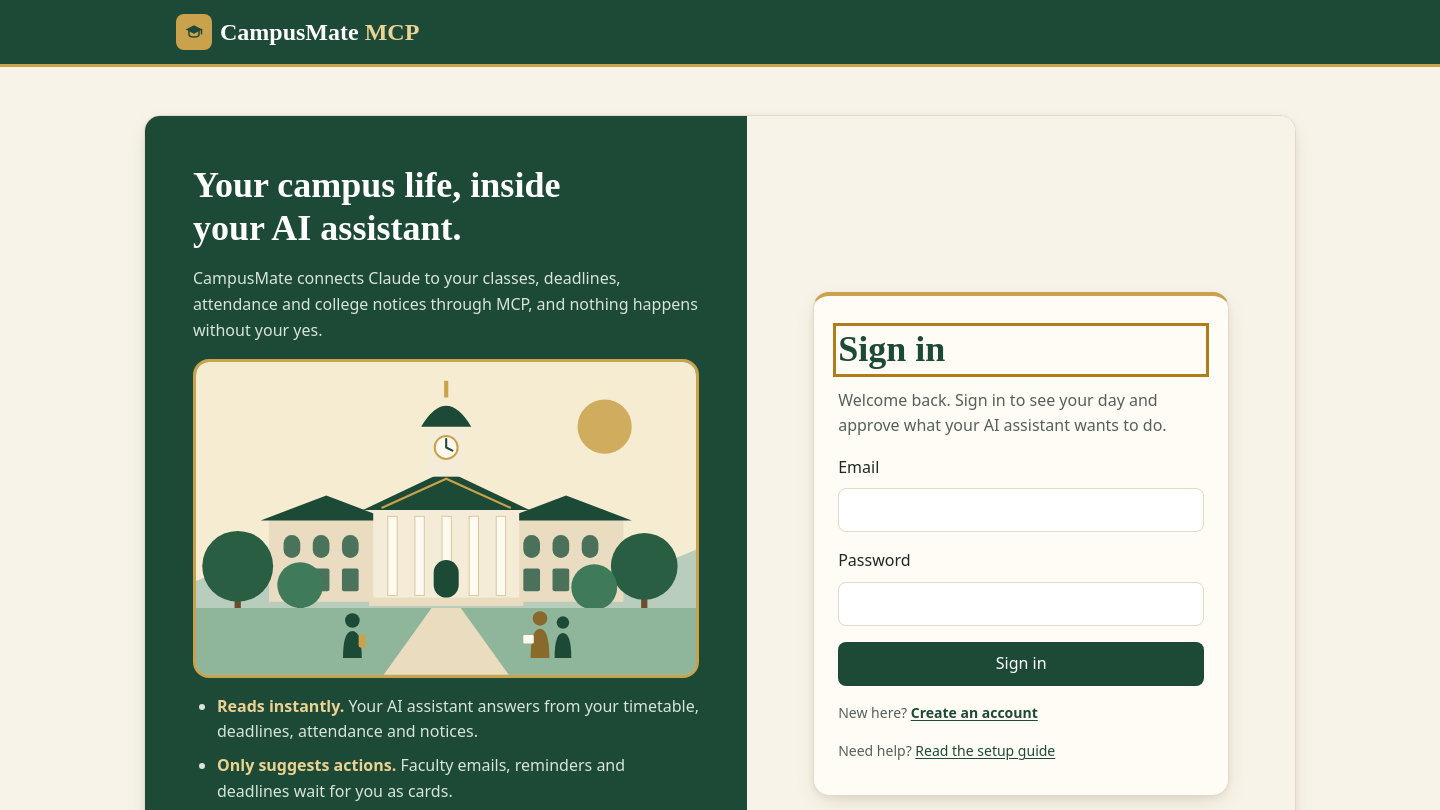
logged out › sends protected pages to the login page and back after logging in
The width and height of the screenshot is (1440, 810).
Check: the heading "Sign in" is shown, box [838,329,945,369]
Type "ananya@college.test" into the field labelled "Email".
click(1021, 510); type("ananya@college.test")  # box [838,488,1204,532]
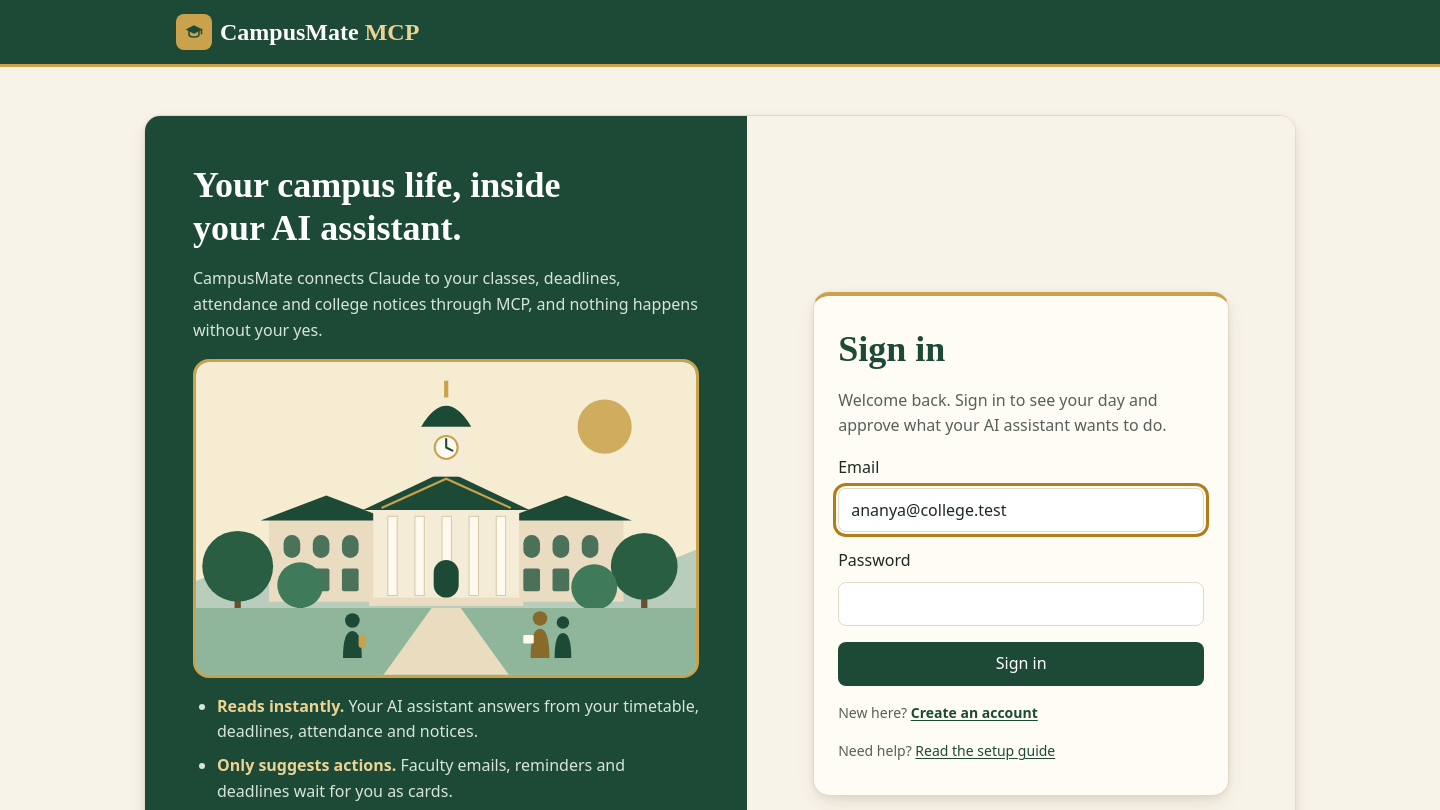
Type "a-long-password-1" into the password field labelled "Password".
click(1021, 604); type("a-long-password-1")  # box [838,582,1204,626]
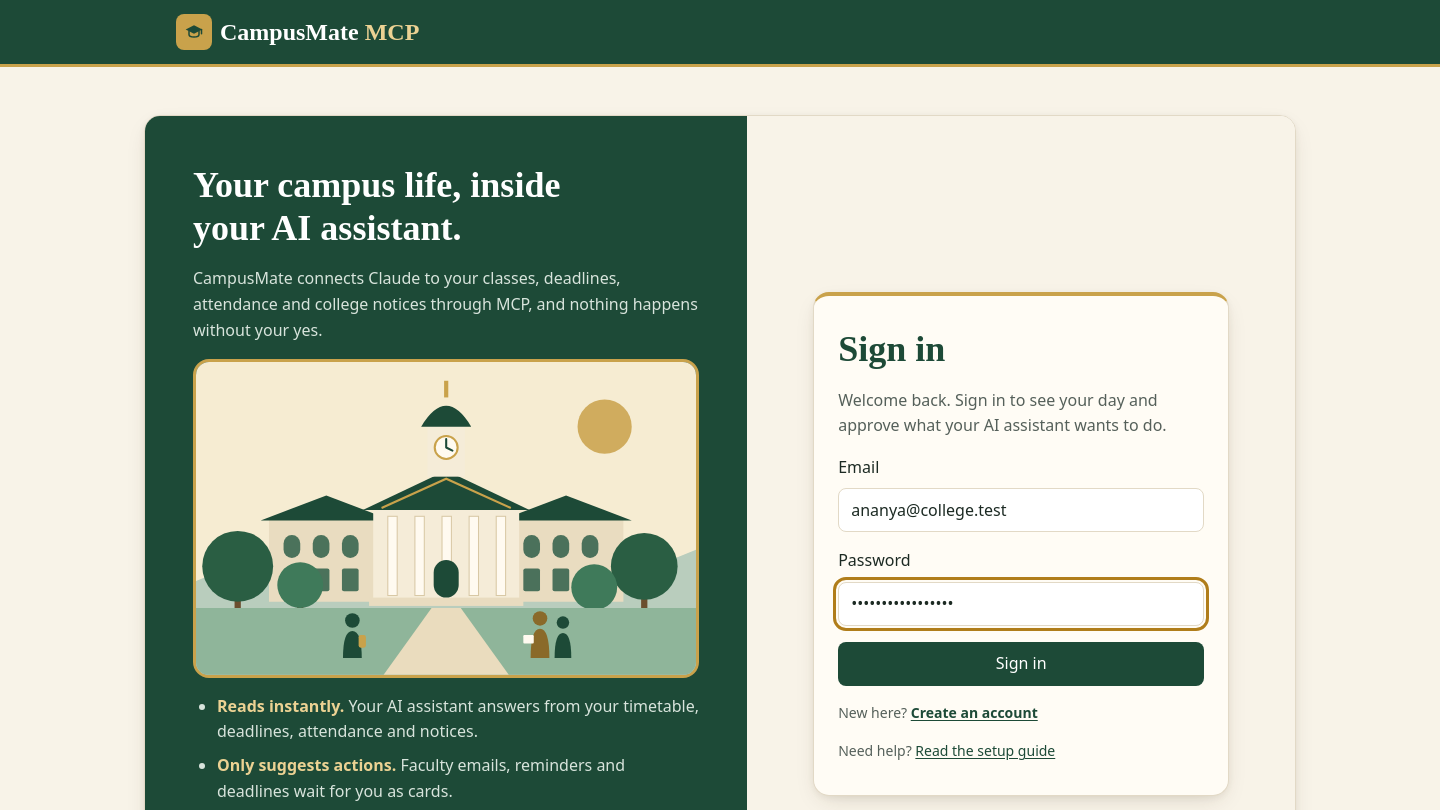
Click the button "Sign in".
click(1021, 664)  # box [838,642,1204,686]
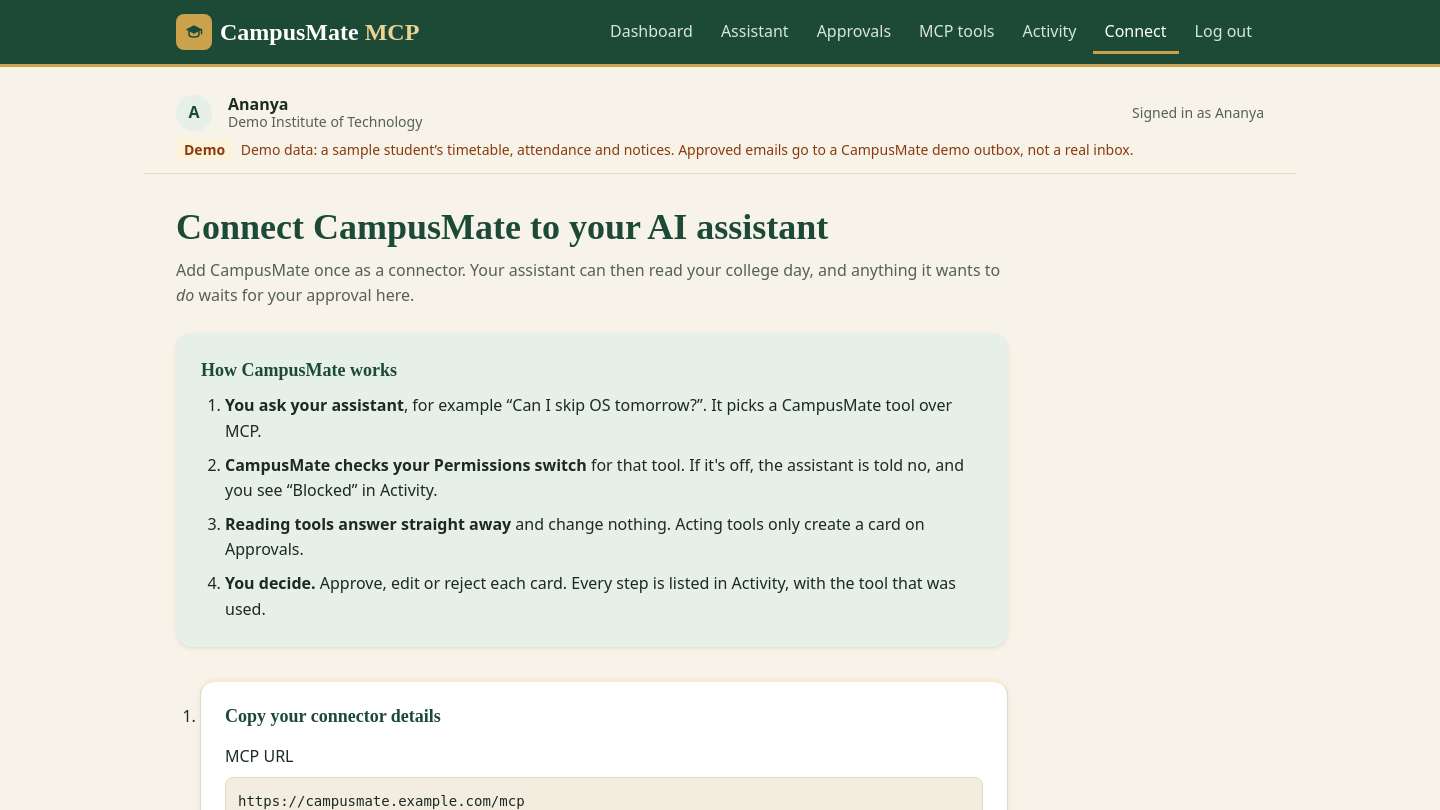
Check: the heading "Connect CampusMate to your AI assistant" is shown, box [176,207,828,247]
